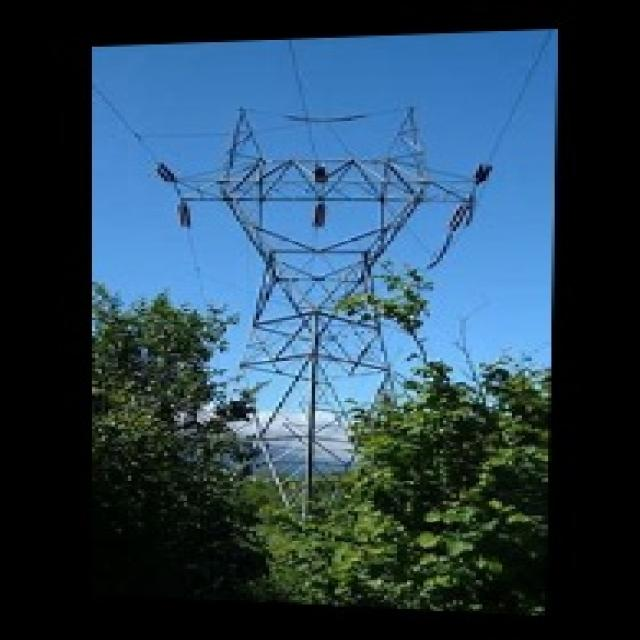utility poles: (326, 267, 534, 460), (172, 308, 300, 480)
